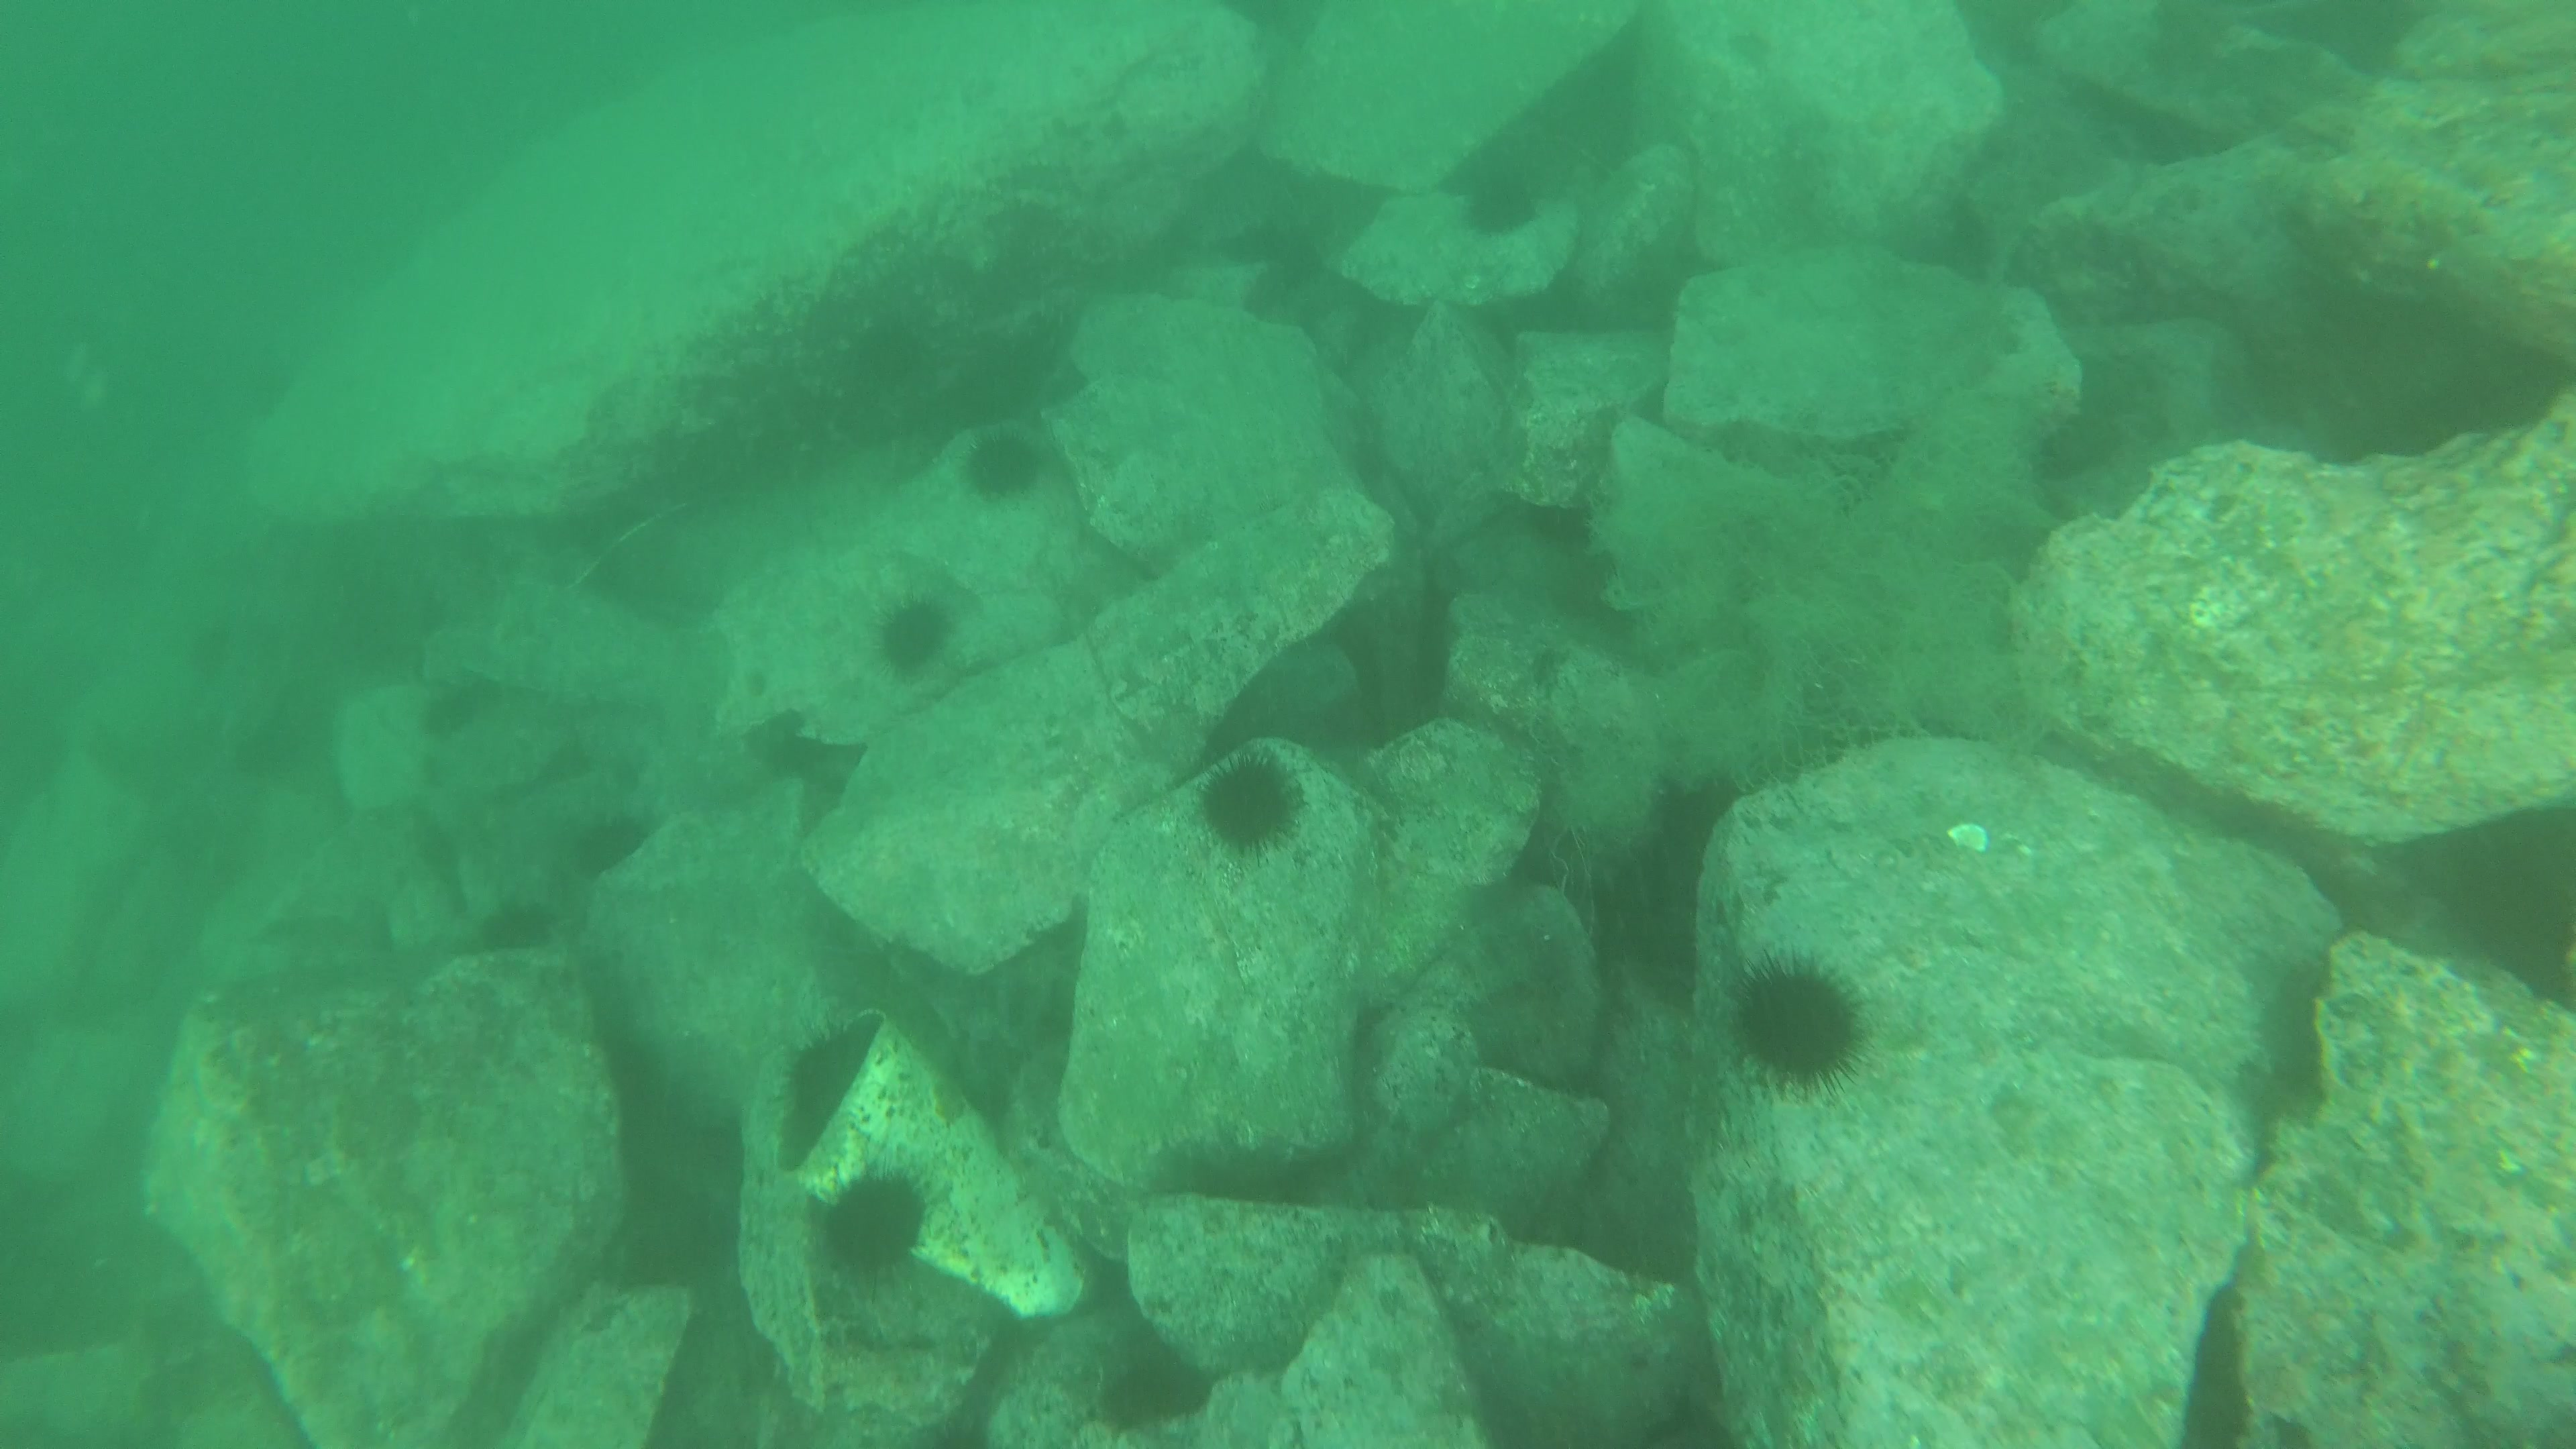echinus: (1727, 948, 1872, 1092), (814, 1166, 932, 1269), (1191, 743, 1302, 849), (777, 1019, 892, 1113), (872, 600, 968, 685), (952, 433, 1053, 502), (570, 810, 646, 886), (1458, 163, 1536, 235), (478, 899, 563, 957)
